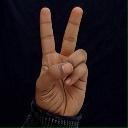hand: (34, 5, 88, 117)
